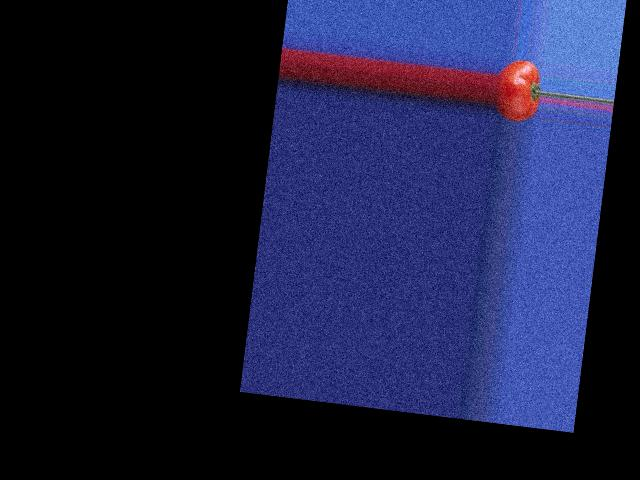tomato: (491, 58, 544, 124)
